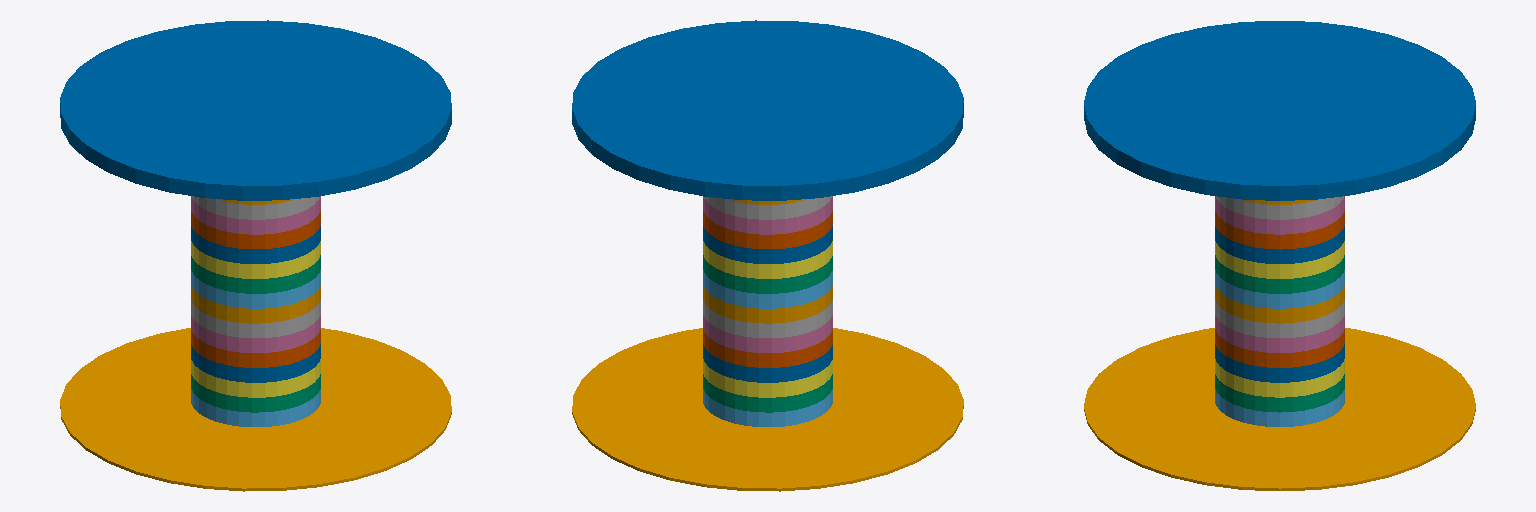
URDF robot description (4_flat_top):
<?xml version="1.0"?>

<robot name="4_flat_top">

    <!-- The base --> 
    <link name="base_link">
        <inertial>
            <origin xyz="0 0 0" rpy="0 0 0"/>
            <mass value="1"/>
            <inertia ixx="0.1" ixy="0.0" ixz="0.0" iyy="0.1" iyz="0.0" izz="0.1"/>
        </inertial>
        <visual>
            <origin xyz="0 0 0" rpy="0 0 0"/>
            <geometry>
                <cylinder length="0.01" radius="0.6"/>
            </geometry>
        </visual>
        <collision>
            <origin xyz="0 0 0" rpy="0 0 0"/>
            <geometry>
                <cylinder length="0.01" radius="0.6"/>
            </geometry>
        </collision>
    </link>

    <!-- 0 -->
    <link name="0_link">
        <inertial>
            <origin xyz="0 0 0" rpy="0 0 0"/>
            <mass value="1"/>
            <inertia ixx="0.01" ixy="0.0" ixz="0.0" iyy="0.01" iyz="0.0" izz="0.01"/>
        </inertial>
        <visual>
            <origin xyz="0 0 0" rpy="0 0 0"/>
            <geometry>
                <cylinder length="0.05" radius="0.2"/>
            </geometry>
        </visual>
        <collision>
            <origin xyz="0 0 0" rpy="0 0 0"/>
            <geometry>
                <cylinder length="0.05" radius="0.2"/>
            </geometry>
        </collision>
    </link>

    <!-- Joint from base to 0 -->
    <joint name="base_0_joint" type="fixed">
        <parent link="base_link"/>
        <child link="0_link"/>
        <origin xyz="0 0 0.05" rpy="0 0 0"/>
    </joint>

    <!-- 1 -->
    <link name="1_link">
        <inertial>
            <origin xyz="0 0 0" rpy="0 0 0"/>
            <mass value="1"/>
            <inertia ixx="0.01" ixy="0.0" ixz="0.0" iyy="0.01" iyz="0.0" izz="0.01"/>
        </inertial>
        <visual>
            <origin xyz="0 0 0" rpy="0 0 0"/>
            <geometry>
                <cylinder length="0.05" radius="0.2"/>
            </geometry>
        </visual>
        <collision>
            <origin xyz="0 0 0" rpy="0 0 0"/>
            <geometry>
                <cylinder length="0.05" radius="0.2"/>
            </geometry>
        </collision>
    </link>

    <!-- Joint from 0 to 1 -->
    <joint name="0_1_joint" type="fixed">
        <parent link="0_link"/>
        <child link="1_link"/>
        <origin xyz="0 0 0.05" rpy="0 0 0"/>
    </joint>

    <!-- 2 -->
    <link name="2_link">
        <inertial>
            <origin xyz="0 0 0" rpy="0 0 0"/>
            <mass value="1"/>
            <inertia ixx="0.01" ixy="0.0" ixz="0.0" iyy="0.01" iyz="0.0" izz="0.01"/>
        </inertial>
        <visual>
            <origin xyz="0 0 0" rpy="0 0 0"/>
            <geometry>
                <cylinder length="0.05" radius="0.2"/>
            </geometry>
        </visual>
        <collision>
            <origin xyz="0 0 0" rpy="0 0 0"/>
            <geometry>
                <cylinder length="0.05" radius="0.2"/>
            </geometry>
        </collision>
    </link>

    <!-- Joint from 1 to 2 -->
    <joint name="1_2_joint" type="fixed">
        <parent link="1_link"/>
        <child link="2_link"/>
        <origin xyz="0 0 0.05" rpy="0 0 0"/>
    </joint>

    <!-- 3 -->
    <link name="3_link">
        <inertial>
            <origin xyz="0 0 0" rpy="0 0 0"/>
            <mass value="1"/>
            <inertia ixx="0.01" ixy="0.0" ixz="0.0" iyy="0.01" iyz="0.0" izz="0.01"/>
        </inertial>
        <visual>
            <origin xyz="0 0 0" rpy="0 0 0"/>
            <geometry>
                <cylinder length="0.05" radius="0.2"/>
            </geometry>
        </visual>
        <collision>
            <origin xyz="0 0 0" rpy="0 0 0"/>
            <geometry>
                <cylinder length="0.05" radius="0.2"/>
            </geometry>
        </collision>
    </link>

    <!-- Joint from 2 to 3 -->
    <joint name="2_3_joint" type="fixed">
        <parent link="2_link"/>
        <child link="3_link"/>
        <origin xyz="0 0 0.05" rpy="0 0 0"/>
    </joint>

    <!-- 4 -->
    <link name="4_link">
        <inertial>
            <origin xyz="0 0 0" rpy="0 0 0"/>
            <mass value="1"/>
            <inertia ixx="0.01" ixy="0.0" ixz="0.0" iyy="0.01" iyz="0.0" izz="0.01"/>
        </inertial>
        <visual>
            <origin xyz="0 0 0" rpy="0 0 0"/>
            <geometry>
                <cylinder length="0.05" radius="0.2"/>
            </geometry>
        </visual>
        <collision>
            <origin xyz="0 0 0" rpy="0 0 0"/>
            <geometry>
                <cylinder length="0.05" radius="0.2"/>
            </geometry>
        </collision>
    </link>

    <!-- Joint from 3 to 4 -->
    <joint name="3_4_joint" type="fixed">
        <parent link="3_link"/>
        <child link="4_link"/>
        <origin xyz="0 0 0.05" rpy="0 0 0"/>
    </joint>

    <!-- 5 -->
    <link name="5_link">
        <inertial>
            <origin xyz="0 0 0" rpy="0 0 0"/>
            <mass value="1"/>
            <inertia ixx="0.01" ixy="0.0" ixz="0.0" iyy="0.01" iyz="0.0" izz="0.01"/>
        </inertial>
        <visual>
            <origin xyz="0 0 0" rpy="0 0 0"/>
            <geometry>
                <cylinder length="0.05" radius="0.2"/>
            </geometry>
        </visual>
        <collision>
            <origin xyz="0 0 0" rpy="0 0 0"/>
            <geometry>
                <cylinder length="0.05" radius="0.2"/>
            </geometry>
        </collision>
    </link>

    <!-- Joint from 4 to 5 -->
    <joint name="4_5_joint" type="fixed">
        <parent link="4_link"/>
        <child link="5_link"/>
        <origin xyz="0 0 0.05" rpy="0 0 0"/>
    </joint>

    <!-- 6 -->
    <link name="6_link">
        <inertial>
            <origin xyz="0 0 0" rpy="0 0 0"/>
            <mass value="1"/>
            <inertia ixx="0.01" ixy="0.0" ixz="0.0" iyy="0.01" iyz="0.0" izz="0.01"/>
        </inertial>
        <visual>
            <origin xyz="0 0 0" rpy="0 0 0"/>
            <geometry>
                <cylinder length="0.05" radius="0.2"/>
            </geometry>
        </visual>
        <collision>
            <origin xyz="0 0 0" rpy="0 0 0"/>
            <geometry>
                <cylinder length="0.05" radius="0.2"/>
            </geometry>
        </collision>
    </link>

    <!-- Joint from 5 to 6 -->
    <joint name="5_6_joint" type="fixed">
        <parent link="5_link"/>
        <child link="6_link"/>
        <origin xyz="0 0 0.05" rpy="0 0 0"/>
    </joint>

    <!-- 7 -->
    <link name="7_link">
        <inertial>
            <origin xyz="0 0 0" rpy="0 0 0"/>
            <mass value="1"/>
            <inertia ixx="0.01" ixy="0.0" ixz="0.0" iyy="0.01" iyz="0.0" izz="0.01"/>
        </inertial>
        <visual>
            <origin xyz="0 0 0" rpy="0 0 0"/>
            <geometry>
                <cylinder length="0.05" radius="0.2"/>
            </geometry>
        </visual>
        <collision>
            <origin xyz="0 0 0" rpy="0 0 0"/>
            <geometry>
                <cylinder length="0.05" radius="0.2"/>
            </geometry>
        </collision>
    </link>

    <!-- Joint from 6 to 7 -->
    <joint name="6_7_joint" type="fixed">
        <parent link="6_link"/>
        <child link="7_link"/>
        <origin xyz="0 0 0.05" rpy="0 0 0"/>
    </joint>

    <!-- 8 -->
    <link name="8_link">
        <inertial>
            <origin xyz="0 0 0" rpy="0 0 0"/>
            <mass value="1"/>
            <inertia ixx="0.01" ixy="0.0" ixz="0.0" iyy="0.01" iyz="0.0" izz="0.01"/>
        </inertial>
        <visual>
            <origin xyz="0 0 0" rpy="0 0 0"/>
            <geometry>
                <cylinder length="0.05" radius="0.2"/>
            </geometry>
        </visual>
        <collision>
            <origin xyz="0 0 0" rpy="0 0 0"/>
            <geometry>
                <cylinder length="0.05" radius="0.2"/>
            </geometry>
        </collision>
    </link>

    <!-- Joint from 7 to 8 -->
    <joint name="7_8_joint" type="fixed">
        <parent link="7_link"/>
        <child link="8_link"/>
        <origin xyz="0 0 0.05" rpy="0 0 0"/>
    </joint>

    <!-- 9 -->
    <link name="9_link">
        <inertial>
            <origin xyz="0 0 0" rpy="0 0 0"/>
            <mass value="1"/>
            <inertia ixx="0.01" ixy="0.0" ixz="0.0" iyy="0.01" iyz="0.0" izz="0.01"/>
        </inertial>
        <visual>
            <origin xyz="0 0 0" rpy="0 0 0"/>
            <geometry>
                <cylinder length="0.05" radius="0.2"/>
            </geometry>
        </visual>
        <collision>
            <origin xyz="0 0 0" rpy="0 0 0"/>
            <geometry>
                <cylinder length="0.05" radius="0.2"/>
            </geometry>
        </collision>
    </link>

    <!-- Joint from 8 to 9 -->
    <joint name="8_9_joint" type="fixed">
        <parent link="8_link"/>
        <child link="9_link"/>
        <origin xyz="0 0 0.05" rpy="0 0 0"/>
    </joint>

    <!-- 10 -->
    <link name="10_link">
        <inertial>
            <origin xyz="0 0 0" rpy="0 0 0"/>
            <mass value="1"/>
            <inertia ixx="0.01" ixy="0.0" ixz="0.0" iyy="0.01" iyz="0.0" izz="0.01"/>
        </inertial>
        <visual>
            <origin xyz="0 0 0" rpy="0 0 0"/>
            <geometry>
                <cylinder length="0.05" radius="0.2"/>
            </geometry>
        </visual>
        <collision>
            <origin xyz="0 0 0" rpy="0 0 0"/>
            <geometry>
                <cylinder length="0.05" radius="0.2"/>
            </geometry>
        </collision>
    </link>

    <!-- Joint from 9 to 10 -->
    <joint name="9_10_joint" type="fixed">
        <parent link="9_link"/>
        <child link="10_link"/>
        <origin xyz="0 0 0.05" rpy="0 0 0"/>
    </joint>

    <!-- 11 -->
    <link name="11_link">
        <inertial>
            <origin xyz="0 0 0" rpy="0 0 0"/>
            <mass value="1"/>
            <inertia ixx="0.01" ixy="0.0" ixz="0.0" iyy="0.01" iyz="0.0" izz="0.01"/>
        </inertial>
        <visual>
            <origin xyz="0 0 0" rpy="0 0 0"/>
            <geometry>
                <cylinder length="0.05" radius="0.2"/>
            </geometry>
        </visual>
        <collision>
            <origin xyz="0 0 0" rpy="0 0 0"/>
            <geometry>
                <cylinder length="0.05" radius="0.2"/>
            </geometry>
        </collision>
    </link>

    <!-- Joint from 10 to 11 -->
    <joint name="10_11_joint" type="fixed">
        <parent link="10_link"/>
        <child link="11_link"/>
        <origin xyz="0 0 0.05" rpy="0 0 0"/>
    </joint>

    <!-- 12 -->
    <link name="12_link">
        <inertial>
            <origin xyz="0 0 0" rpy="0 0 0"/>
            <mass value="1"/>
            <inertia ixx="0.01" ixy="0.0" ixz="0.0" iyy="0.01" iyz="0.0" izz="0.01"/>
        </inertial>
        <visual>
            <origin xyz="0 0 0" rpy="0 0 0"/>
            <geometry>
                <cylinder length="0.05" radius="0.2"/>
            </geometry>
        </visual>
        <collision>
            <origin xyz="0 0 0" rpy="0 0 0"/>
            <geometry>
                <cylinder length="0.05" radius="0.2"/>
            </geometry>
        </collision>
    </link>

    <!-- Joint from 11 to 12 -->
    <joint name="11_12_joint" type="fixed">
        <parent link="11_link"/>
        <child link="12_link"/>
        <origin xyz="0 0 0.05" rpy="0 0 0"/>
    </joint>

    <!-- 13 -->
    <link name="13_link">
        <inertial>
            <origin xyz="0 0 0" rpy="0 0 0"/>
            <mass value="1"/>
            <inertia ixx="0.01" ixy="0.0" ixz="0.0" iyy="0.01" iyz="0.0" izz="0.01"/>
        </inertial>
        <visual>
            <origin xyz="0 0 0" rpy="0 0 0"/>
            <geometry>
                <cylinder length="0.05" radius="0.2"/>
            </geometry>
        </visual>
        <collision>
            <origin xyz="0 0 0" rpy="0 0 0"/>
            <geometry>
                <cylinder length="0.05" radius="0.2"/>
            </geometry>
        </collision>
    </link>

    <!-- Joint from 12 to 13 -->
    <joint name="12_13_joint" type="fixed">
        <parent link="12_link"/>
        <child link="13_link"/>
        <origin xyz="0 0 0.05" rpy="0 0 0"/>
    </joint>

    <!-- 14 -->
    <link name="14_link">
        <inertial>
            <origin xyz="0 0 0" rpy="0 0 0"/>
            <mass value="1"/>
            <inertia ixx="0.01" ixy="0.0" ixz="0.0" iyy="0.01" iyz="0.0" izz="0.01"/>
        </inertial>
        <visual>
            <origin xyz="0 0 0" rpy="0 0 0"/>
            <geometry>
                <cylinder length="0.05" radius="0.2"/>
            </geometry>
        </visual>
        <collision>
            <origin xyz="0 0 0" rpy="0 0 0"/>
            <geometry>
                <cylinder length="0.05" radius="0.2"/>
            </geometry>
        </collision>
    </link>

    <!-- Joint from 13 to 14 -->
    <joint name="13_14_joint" type="fixed">
        <parent link="13_link"/>
        <child link="14_link"/>
        <origin xyz="0 0 0.05" rpy="0 0 0"/>
    </joint>

    <!-- 15 -->
    <link name="15_link">
        <inertial>
            <origin xyz="0 0 0" rpy="0 0 0"/>
            <mass value="1"/>
            <inertia ixx="0.01" ixy="0.0" ixz="0.0" iyy="0.01" iyz="0.0" izz="0.01"/>
        </inertial>
        <visual>
            <origin xyz="0 0 0" rpy="0 0 0"/>
            <geometry>
                <cylinder length="0.05" radius="0.2"/>
            </geometry>
        </visual>
        <collision>
            <origin xyz="0 0 0" rpy="0 0 0"/>
            <geometry>
                <cylinder length="0.05" radius="0.2"/>
            </geometry>
        </collision>
    </link>

    <!-- Joint from 14 to 15 -->
    <joint name="14_15_joint" type="fixed">
        <parent link="14_link"/>
        <child link="15_link"/>
        <origin xyz="0 0 0.05" rpy="0 0 0"/>
    </joint>

    <!-- 16 -->
    <link name="16_link">
        <inertial>
            <origin xyz="0 0 0" rpy="0 0 0"/>
            <mass value="1"/>
            <inertia ixx="0.01" ixy="0.0" ixz="0.0" iyy="0.01" iyz="0.0" izz="0.01"/>
        </inertial>
        <visual>
            <origin xyz="0 0 0" rpy="0 0 0"/>
            <geometry>
                <cylinder length="0.05" radius="0.2"/>
            </geometry>
        </visual>
        <collision>
            <origin xyz="0 0 0" rpy="0 0 0"/>
            <geometry>
                <cylinder length="0.05" radius="0.2"/>
            </geometry>
        </collision>
    </link>

    <!-- Joint from 15 to 16 -->
    <joint name="15_16_joint" type="fixed">
        <parent link="15_link"/>
        <child link="16_link"/>
        <origin xyz="0 0 0.05" rpy="0 0 0"/>
    </joint>

    <!-- 17 -->
    <link name="17_link">
        <inertial>
            <origin xyz="0 0 0" rpy="0 0 0"/>
            <mass value="1"/>
            <inertia ixx="0.01" ixy="0.0" ixz="0.0" iyy="0.01" iyz="0.0" izz="0.01"/>
        </inertial>
        <visual>
            <origin xyz="0 0 0" rpy="0 0 0"/>
            <geometry>
                <cylinder length="0.05" radius="0.2"/>
            </geometry>
        </visual>
        <collision>
            <origin xyz="0 0 0" rpy="0 0 0"/>
            <geometry>
                <cylinder length="0.05" radius="0.2"/>
            </geometry>
        </collision>
    </link>

    <!-- Joint from 16 to 17 -->
    <joint name="16_17_joint" type="fixed">
        <parent link="16_link"/>
        <child link="17_link"/>
        <origin xyz="0 0 0.05" rpy="0 0 0"/>
    </joint>

    <!-- 18 -->
    <link name="18_link">
        <inertial>
            <origin xyz="0 0 0" rpy="0 0 0"/>
            <mass value="1"/>
            <inertia ixx="0.01" ixy="0.0" ixz="0.0" iyy="0.01" iyz="0.0" izz="0.01"/>
        </inertial>
        <visual>
            <origin xyz="0 0 0" rpy="0 0 0"/>
            <geometry>
                <cylinder length="0.05" radius="0.2"/>
            </geometry>
        </visual>
        <collision>
            <origin xyz="0 0 0" rpy="0 0 0"/>
            <geometry>
                <cylinder length="0.05" radius="0.2"/>
            </geometry>
        </collision>
    </link>

    <!-- Joint from 17 to 18 -->
    <joint name="17_18_joint" type="fixed">
        <parent link="17_link"/>
        <child link="18_link"/>
        <origin xyz="0 0 0.05" rpy="0 0 0"/>
    </joint>

    <!-- 19 -->
    <link name="19_link">
        <inertial>
            <origin xyz="0 0 0" rpy="0 0 0"/>
            <mass value="1"/>
            <inertia ixx="0.01" ixy="0.0" ixz="0.0" iyy="0.01" iyz="0.0" izz="0.01"/>
        </inertial>
        <visual>
            <origin xyz="0 0 0" rpy="0 0 0"/>
            <geometry>
                <cylinder length="0.05" radius="0.6"/>
            </geometry>
        </visual>
        <collision>
            <origin xyz="0 0 0" rpy="0 0 0"/>
            <geometry>
                <cylinder length="0.05" radius="0.6"/>
            </geometry>
        </collision>
    </link>

    <!-- Joint from 18 to 19 -->
    <joint name="18_19_joint" type="fixed">
        <parent link="18_link"/>
        <child link="19_link"/>
        <origin xyz="0 0 0.05" rpy="0 0 0"/>
    </joint>

</robot>

--- What the picture shows (computed from the rendered views, not written in the file) ---
Views: 3 orthographic renders of the robot side by side, from view 1: azimuth 30°, elevation 25°; view 2: azimuth 150°, elevation 25°; view 3: azimuth 270°, elevation 25°.
Robot: 4_flat_top — 21 links, 20 joints (20 fixed); root link base_link; default pose: all joints at 0.
Links seen in each view (by area): view 1: 19_link, base_link, 5_link, 11_link, 8_link, 10_link, 2_link, 4_link, 0_link, 9_link, 3_link, 13_link (+5 smaller); view 2: 19_link, base_link, 5_link, 11_link, 8_link, 10_link, 2_link, 4_link, 0_link, 9_link, 3_link, 13_link (+5 smaller); view 3: 19_link, base_link, 9_link, 0_link, 4_link, 11_link, 5_link, 1_link, 3_link, 6_link, 10_link, 8_link (+5 smaller).
Link boxes in pixels (left/top/right/bottom): 19_link: left=60, top=20, right=451, bottom=200; base_link: left=60, top=328, right=451, bottom=491; 5_link: left=191, top=315, right=320, bottom=352; 11_link: left=191, top=226, right=320, bottom=263; 8_link: left=191, top=270, right=320, bottom=308; 10_link: left=191, top=241, right=320, bottom=278; 2_link: left=191, top=359, right=320, bottom=397; 4_link: left=191, top=330, right=320, bottom=367; 0_link: left=191, top=389, right=320, bottom=426; 9_link: left=191, top=255, right=320, bottom=293; 3_link: left=191, top=344, right=320, bottom=382; 13_link: left=191, top=196, right=320, bottom=234; 19_link: left=572, top=20, right=963, bottom=200; base_link: left=572, top=328, right=963, bottom=491; 5_link: left=703, top=315, right=832, bottom=352; 11_link: left=703, top=226, right=832, bottom=263; 8_link: left=703, top=270, right=832, bottom=308; 10_link: left=703, top=241, right=832, bottom=278; 2_link: left=703, top=359, right=832, bottom=397; 4_link: left=703, top=330, right=832, bottom=367; 0_link: left=703, top=389, right=832, bottom=426; 9_link: left=703, top=255, right=832, bottom=293; 3_link: left=703, top=344, right=832, bottom=382; 13_link: left=703, top=196, right=832, bottom=234; 19_link: left=1084, top=21, right=1475, bottom=200; base_link: left=1084, top=328, right=1475, bottom=490; 9_link: left=1215, top=255, right=1344, bottom=293; 0_link: left=1215, top=389, right=1344, bottom=426; 4_link: left=1215, top=329, right=1344, bottom=367; 11_link: left=1215, top=226, right=1344, bottom=263; 5_link: left=1215, top=315, right=1344, bottom=352; 1_link: left=1215, top=374, right=1344, bottom=412; 3_link: left=1215, top=344, right=1344, bottom=382; 6_link: left=1215, top=300, right=1344, bottom=337; 10_link: left=1215, top=241, right=1344, bottom=278; 8_link: left=1215, top=270, right=1344, bottom=308.
Size in the robot's own frame: 1.2 by 1.2 by 1.03 metres.
Geometry: primitives only (box / cylinder / sphere), no mesh files.
